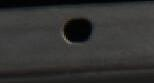holes: (61, 17, 93, 44)
